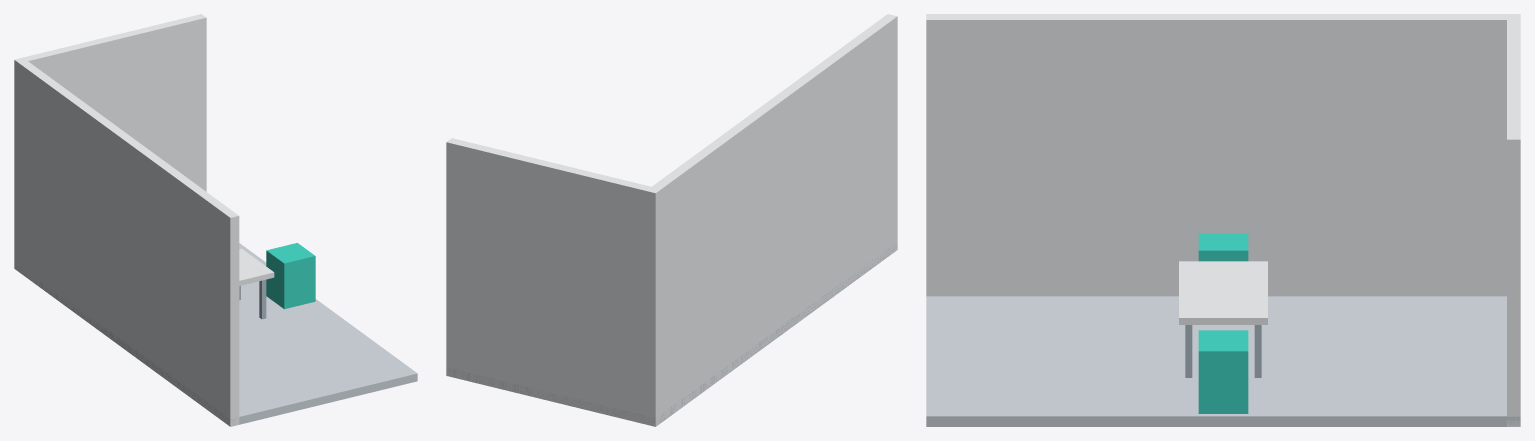
The picture shows the model from 3 angles, left to right: view 1: azimuth 30°, elevation 25°; view 2: azimuth 150°, elevation 25°; view 3: azimuth 270°, elevation 25°; orthographic projection. The views are drawn at different scales.
Visible parts, largest first — view 1: Exhibition Booth Concept; view 2: Exhibition Booth Concept; view 3: Exhibition Booth Concept.
Boxes of the visible parts, x1=… form: Exhibition Booth Concept: x1=14, y1=14, x2=417, y2=426; Exhibition Booth Concept: x1=446, y1=14, x2=897, y2=426; Exhibition Booth Concept: x1=926, y1=14, x2=1520, y2=426.
Bounding box in the file's own units: 3 × 3.2 × 6.
